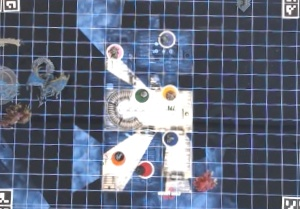blue: (162, 128, 182, 147)
green: (129, 86, 152, 107)
orange: (108, 150, 128, 166)
pink: (104, 40, 125, 62)
red: (135, 158, 154, 181)
violet: (157, 29, 179, 48)
yellow: (163, 83, 180, 101)
